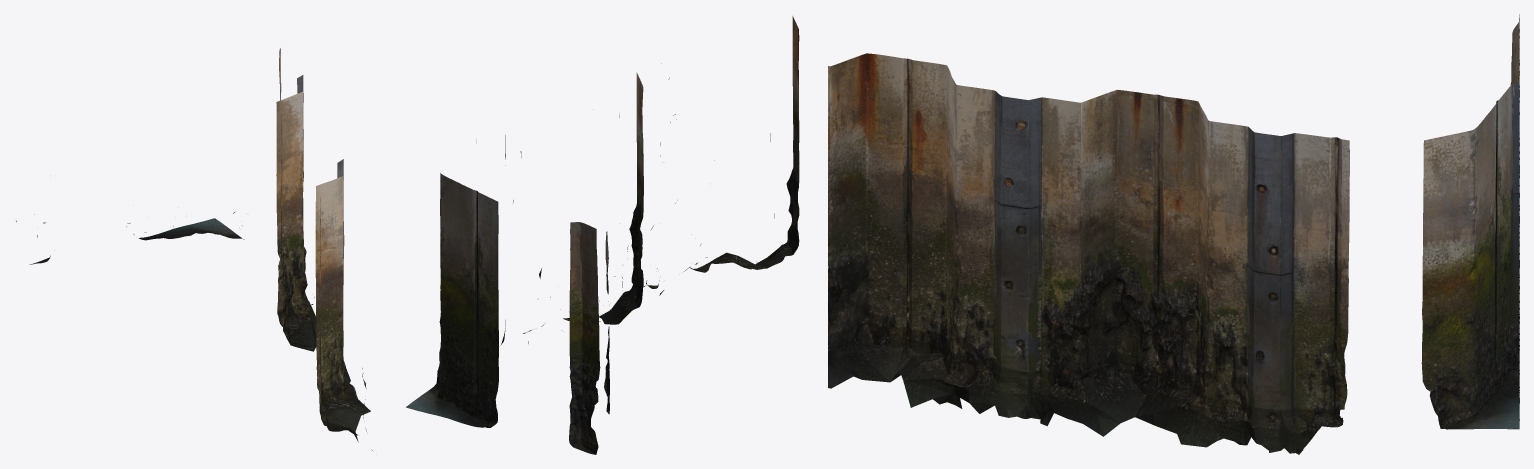
3 renders of one model, left to right at view 1: azimuth 30°, elevation 25°; view 2: azimuth 150°, elevation 25°; view 3: azimuth 270°, elevation 25°, orthographic. The views are drawn at different scales.
Size of the model in its own units: 1.83 by 2.11 by 4.18.
2 materials, 2 textured.
